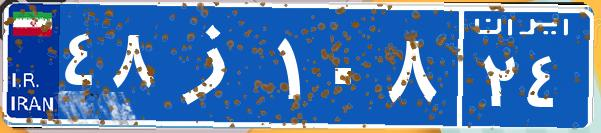0: (330, 28, 385, 110)
1: (273, 28, 330, 110)
2: (475, 38, 525, 113)
4: (57, 26, 110, 107), (525, 38, 570, 115)
8: (385, 28, 445, 110), (110, 28, 158, 105)
ز: (158, 15, 273, 115)
